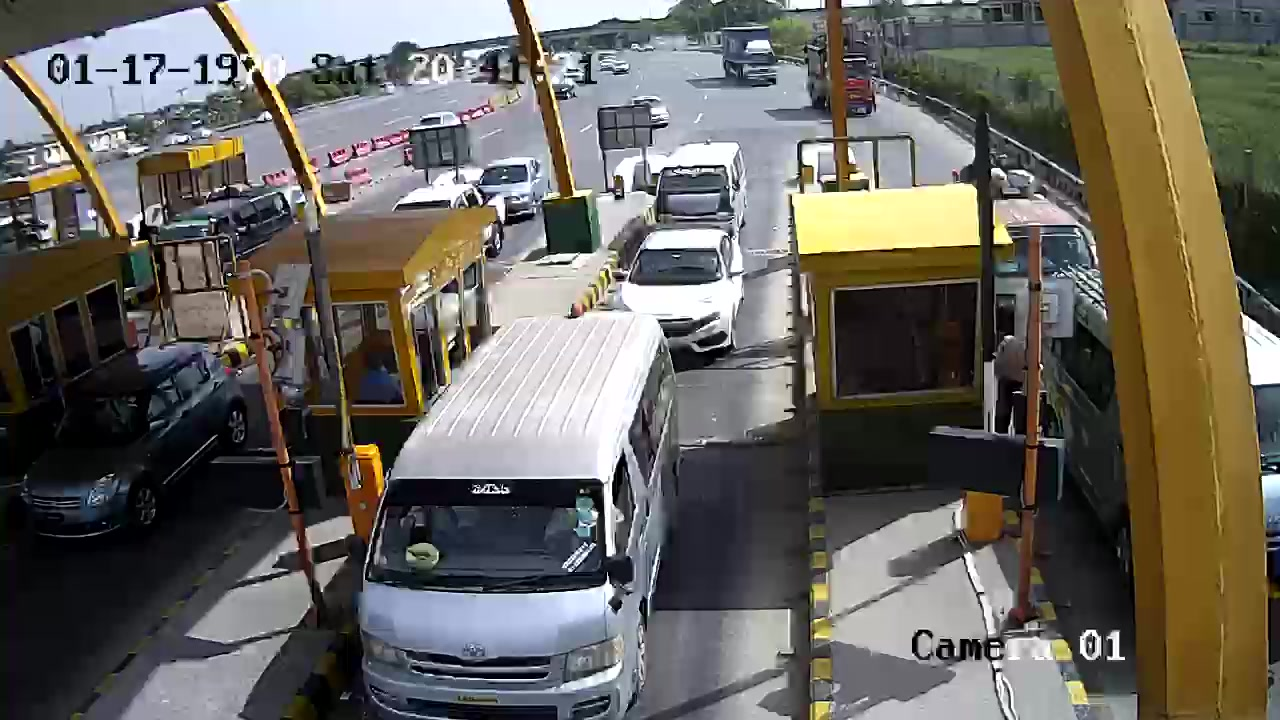F3: (366, 311, 693, 720)
